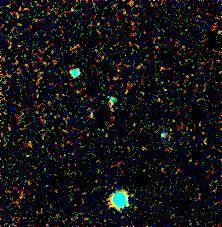star: (112, 190, 142, 220)
